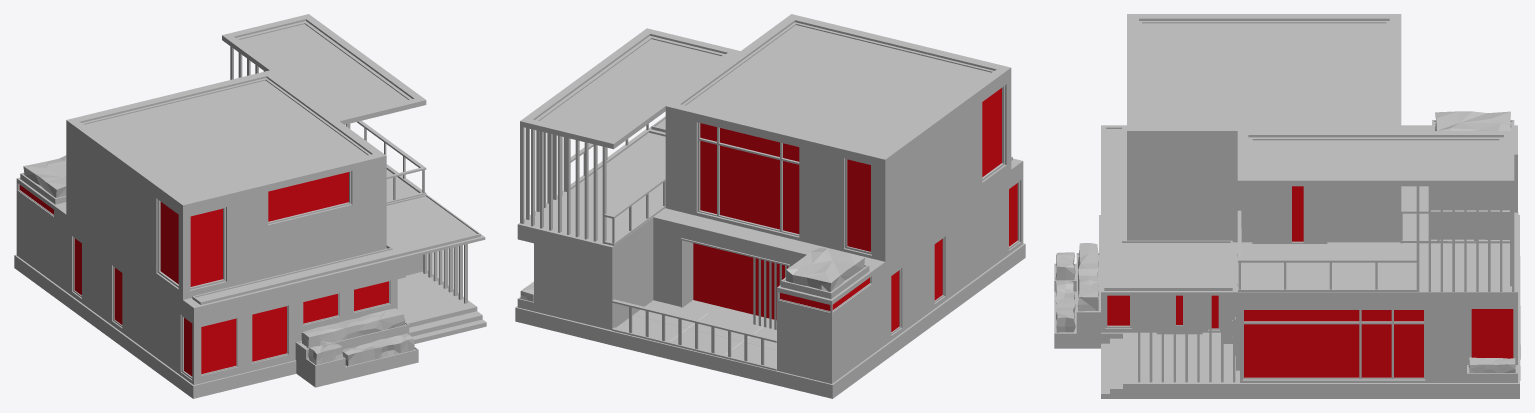
The model's file is SM_cottage_01.gltf.
3 renders of one model, left to right at view 1: azimuth 30°, elevation 25°; view 2: azimuth 150°, elevation 25°; view 3: azimuth 270°, elevation 25°, orthographic. The views are drawn at different scales.
Visible parts, largest first — view 1: cottage_01; view 2: cottage_01; view 3: cottage_01.
Part boxes in pixels (x1=…): cottage_01: x1=14, y1=14, x2=486, y2=398; cottage_01: x1=515, y1=14, x2=1025, y2=398; cottage_01: x1=1054, y1=14, x2=1520, y2=398.
Bounding box in the file's own units: 12 × 7.19 × 14.
